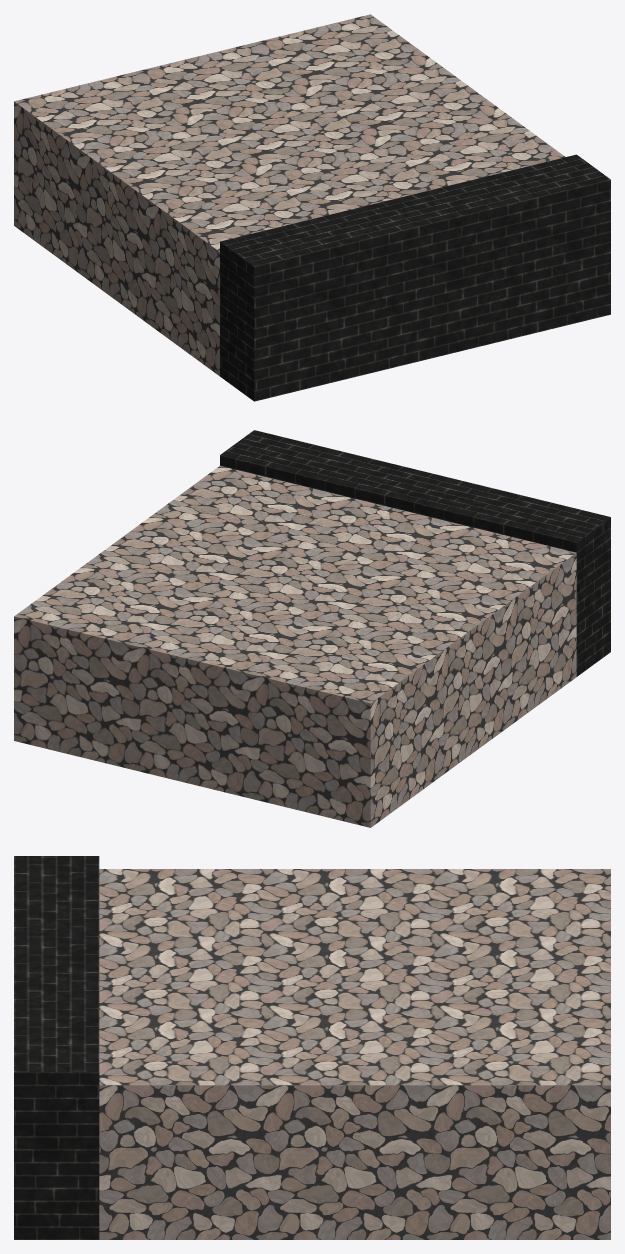
Rendered from cobblestone-t.fbx.
3 views of the same model, one above another, from view 1: azimuth 30°, elevation 25°; view 2: azimuth 150°, elevation 25°; view 3: azimuth 270°, elevation 25° (orthographic). The views are drawn at different scales.
Visible parts, largest first — view 1: cobblestone_t; view 2: cobblestone_t; view 3: cobblestone_t.
Boxes of the visible parts, <box> form: cobblestone_t: <box>14,14,610,401</box>; cobblestone_t: <box>14,430,610,827</box>; cobblestone_t: <box>14,856,610,1239</box>.
Bounding box in the file's own units: 300 × 108 × 350.
